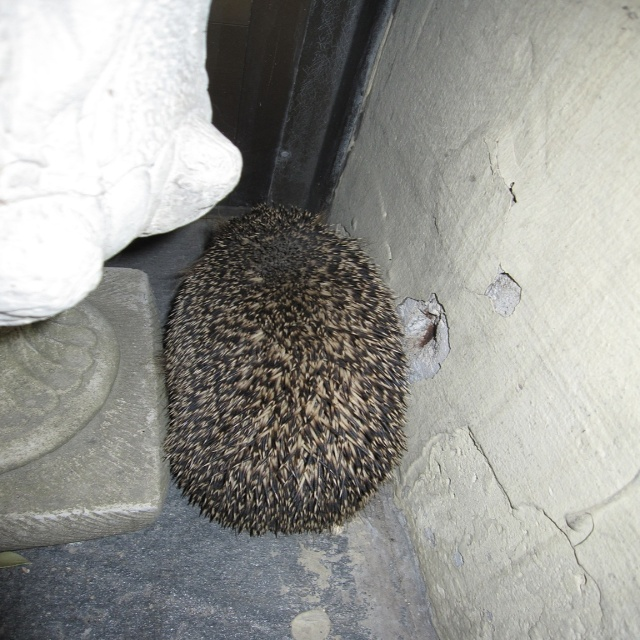Hedgehog: (152, 198, 410, 538)
